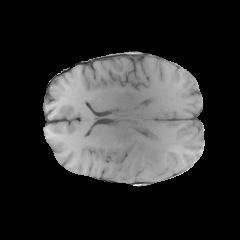glioma: (128, 138, 167, 178)
